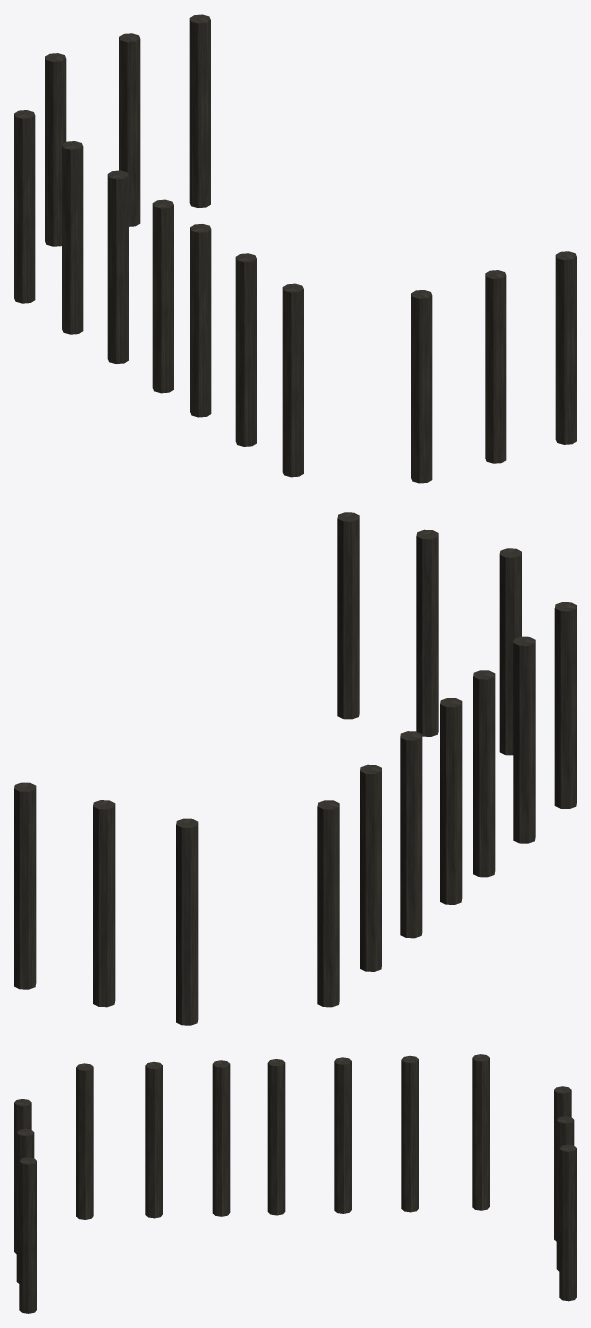
The model's file is cylinder.027_lev3.glb.
The picture shows the model from 3 angles, top to bottom: view 1: azimuth 30°, elevation 25°; view 2: azimuth 150°, elevation 25°; view 3: azimuth 270°, elevation 25°; orthographic projection. The views are drawn at different scales.
Parts seen in each view (by area): view 1: cylinder.027_lev3; view 2: cylinder.027_lev3; view 3: cylinder.027_lev3.
Part boxes in pixels (bbox=[...]): cylinder.027_lev3: bbox=[14, 14, 576, 483]; cylinder.027_lev3: bbox=[14, 512, 576, 1025]; cylinder.027_lev3: bbox=[14, 1054, 576, 1313].
Size of the model in its own units: 0.4153 by 0.2615 by 0.8939.
1 material, 1 textured.
